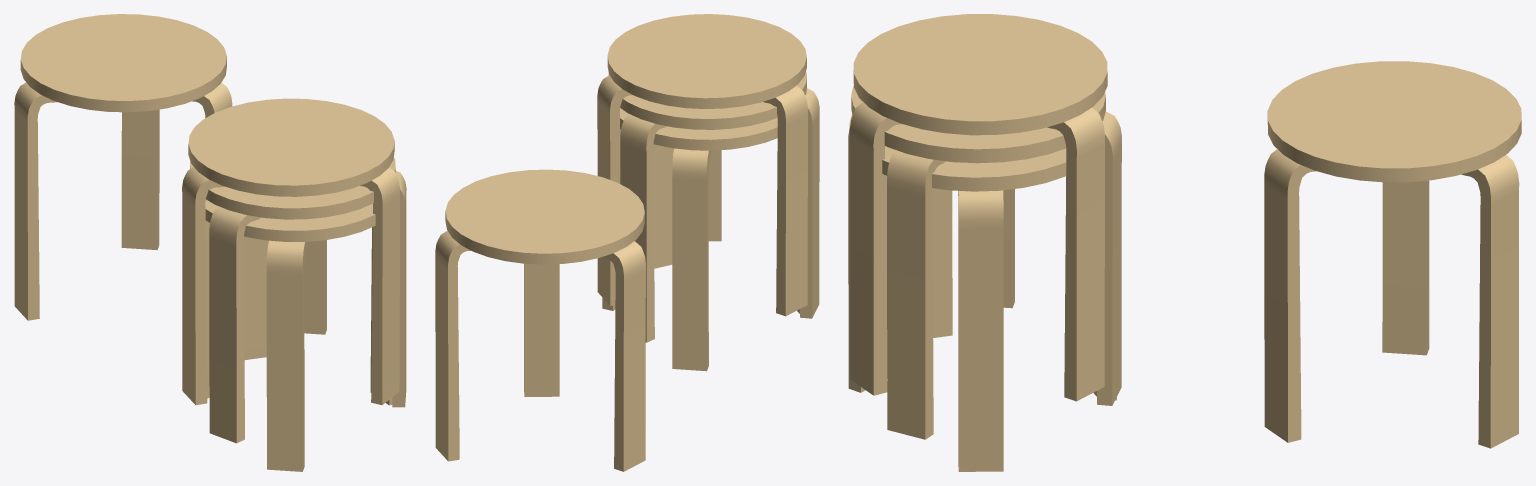
The model's file is stools.fbx.
3 views of the same model, side by side, from view 1: azimuth 30°, elevation 25°; view 2: azimuth 150°, elevation 25°; view 3: azimuth 270°, elevation 25° (orthographic). The views are drawn at different scales.
Visible parts, largest first — view 1: Cube.016, Cube.014, Cube.018, Cube.012; view 2: Cube.014, Cube.016, Cube.018, Cube.012; view 3: Cube.014, Cube.016, Cube.018, Cube.012.
Boxes of the visible parts, <box> form: Cube.016: <box>182,98,399,405</box>; Cube.014: <box>14,14,232,320</box>; Cube.018: <box>190,157,406,443</box>; Cube.012: <box>205,199,392,471</box>; Cube.014: <box>435,169,645,471</box>; Cube.016: <box>597,14,807,316</box>; Cube.018: <box>608,72,819,342</box>; Cube.012: <box>602,108,800,371</box>; Cube.014: <box>1264,61,1521,448</box>; Cube.016: <box>850,14,1107,401</box>; Cube.018: <box>851,85,1121,439</box>; Cube.012: <box>848,114,1116,471</box>.
Size of the model in its own units: 44.93 by 60.08 by 106.
